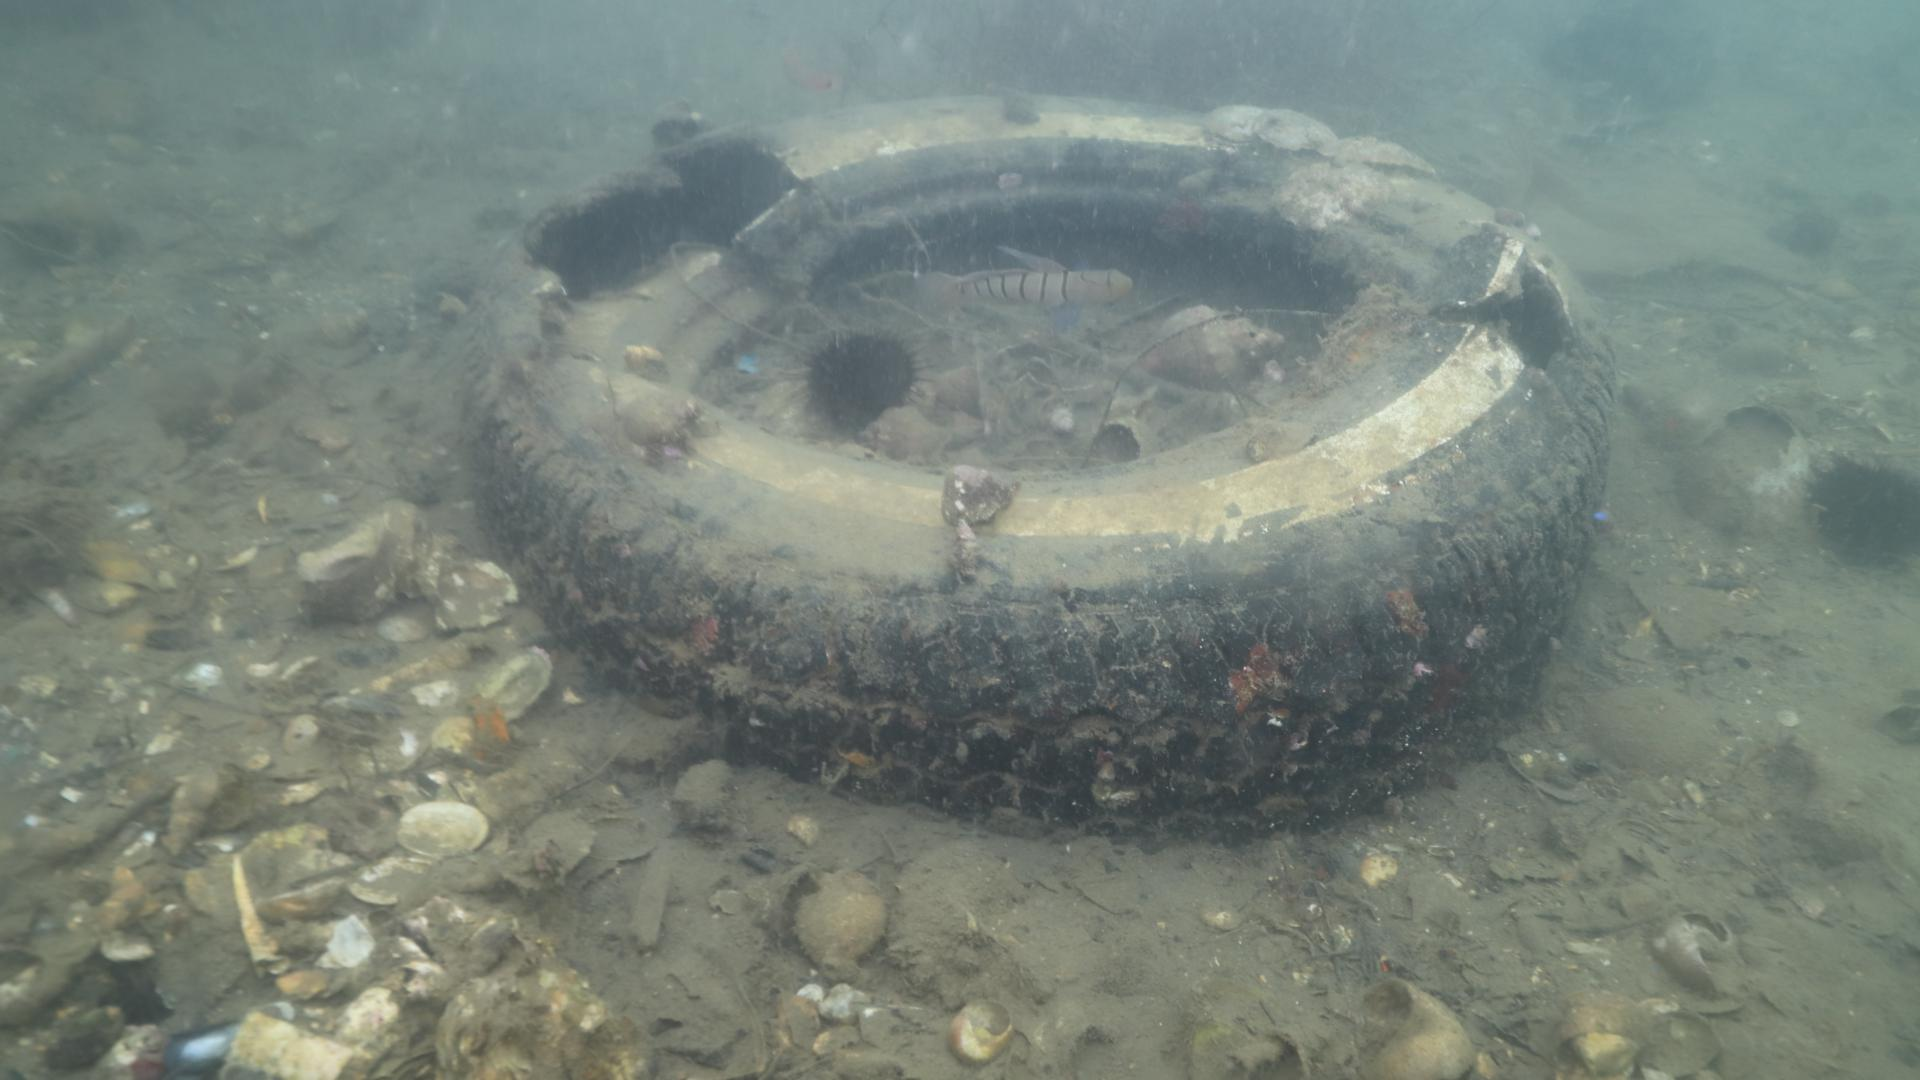tire: (456, 94, 1622, 841)
